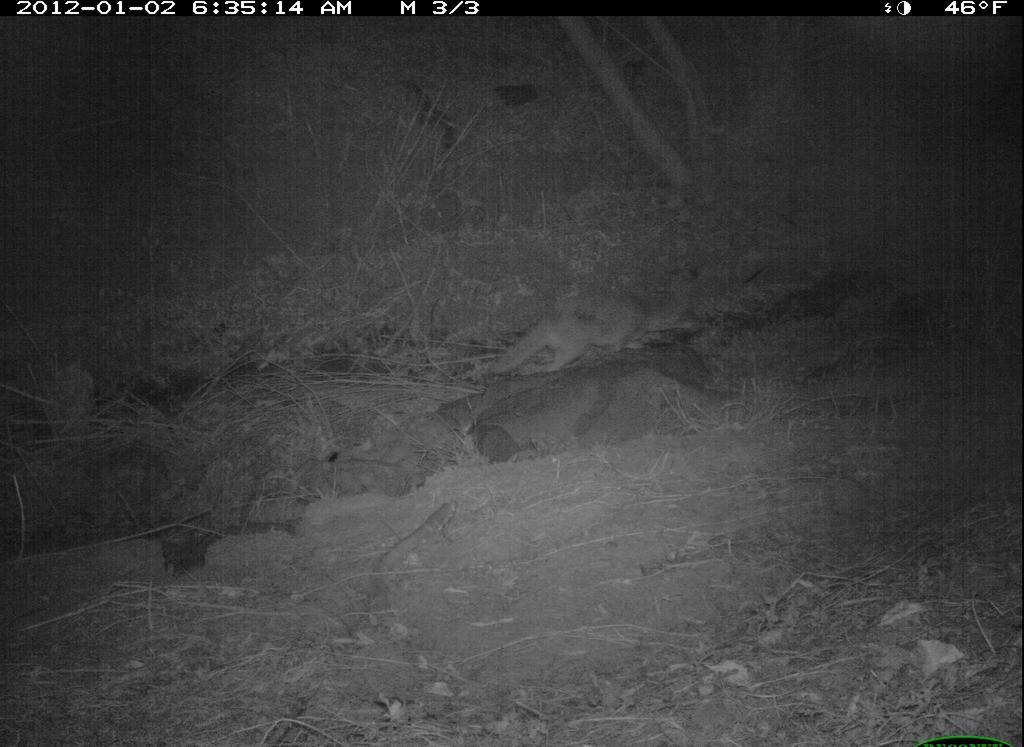coyote: (482, 278, 660, 387)
